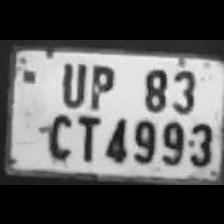3: (184, 116, 214, 168), (168, 64, 198, 110)
4: (101, 111, 128, 163)
8: (138, 61, 168, 111)
9: (130, 113, 156, 163), (159, 115, 185, 165)
C: (41, 108, 73, 160)
P: (86, 58, 116, 108)
T: (72, 109, 102, 161)
U: (55, 57, 86, 106)
